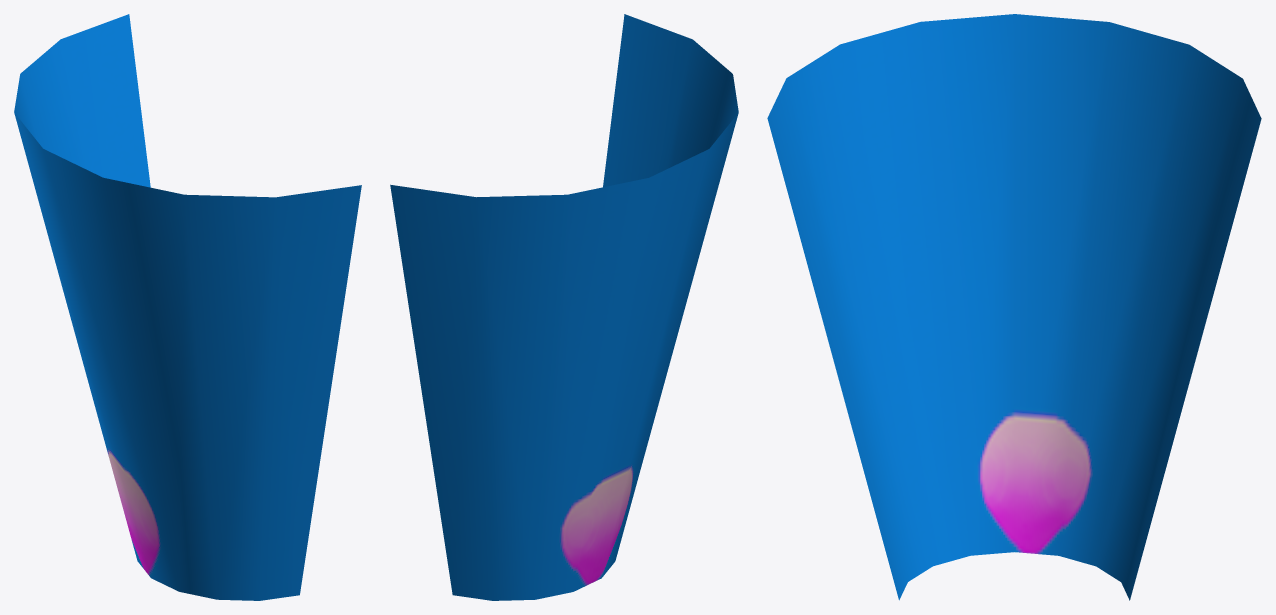
File: p_foamgun_liquidsplash02_cylinder.fbx
3 views of the same model, side by side, from view 1: azimuth 30°, elevation 25°; view 2: azimuth 150°, elevation 25°; view 3: azimuth 270°, elevation 25° (orthographic). The views are drawn at different scales.
Parts seen in each view (by area): view 1: Fluid2; view 2: Fluid2; view 3: Fluid2.
Boxes of the visible parts, left/top/right/bottom form: Fluid2: left=14, top=14, right=361, bottom=600; Fluid2: left=390, top=14, right=738, bottom=600; Fluid2: left=767, top=14, right=1261, bottom=600.
Bounding box in the file's own units: 0.6368 × 1.37 × 1.27.
